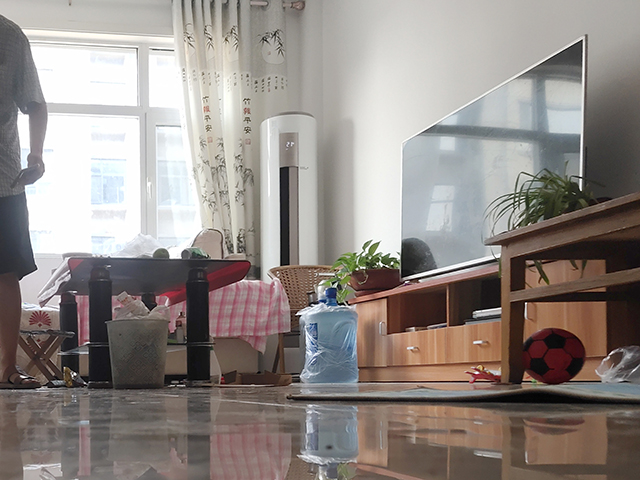cabinet: (345, 262, 499, 385)
carpet: (284, 380, 640, 404)
stool: (17, 328, 78, 390)
table: (482, 190, 640, 387), (35, 254, 253, 390), (172, 2, 256, 247)
trashcan: (102, 317, 172, 391)
